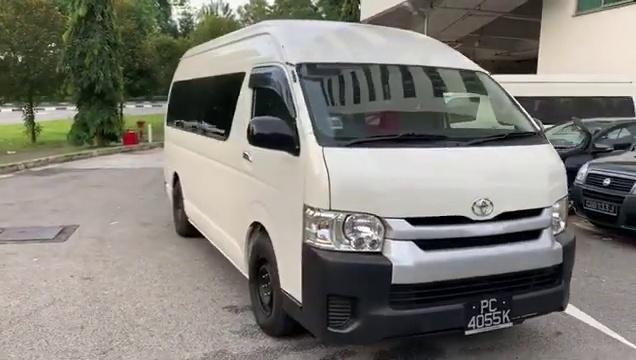van: (161, 19, 582, 338)
